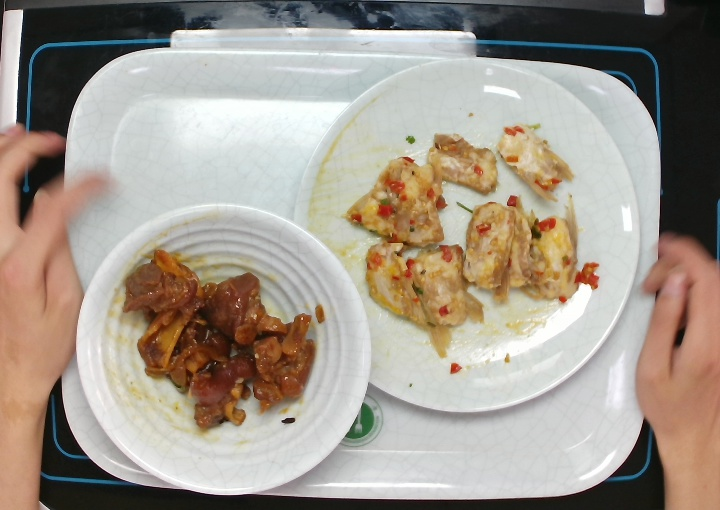JYsf-Da_Yuan_Pan: (294, 54, 641, 417)
JYsf-Xiao_Tang_Wan: (71, 200, 373, 494)
